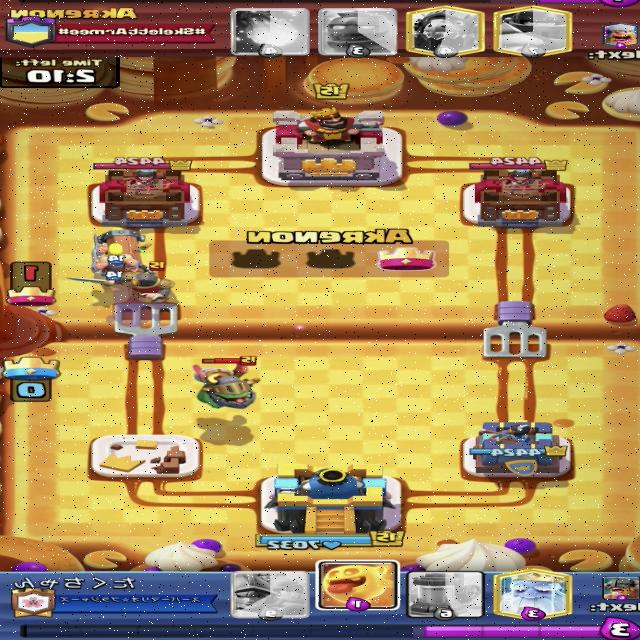Enemy-InfernoDragon: (189, 355, 263, 410)
Enemy-Knight: (124, 260, 177, 304)
Player-Barbarian: (91, 242, 136, 280)
